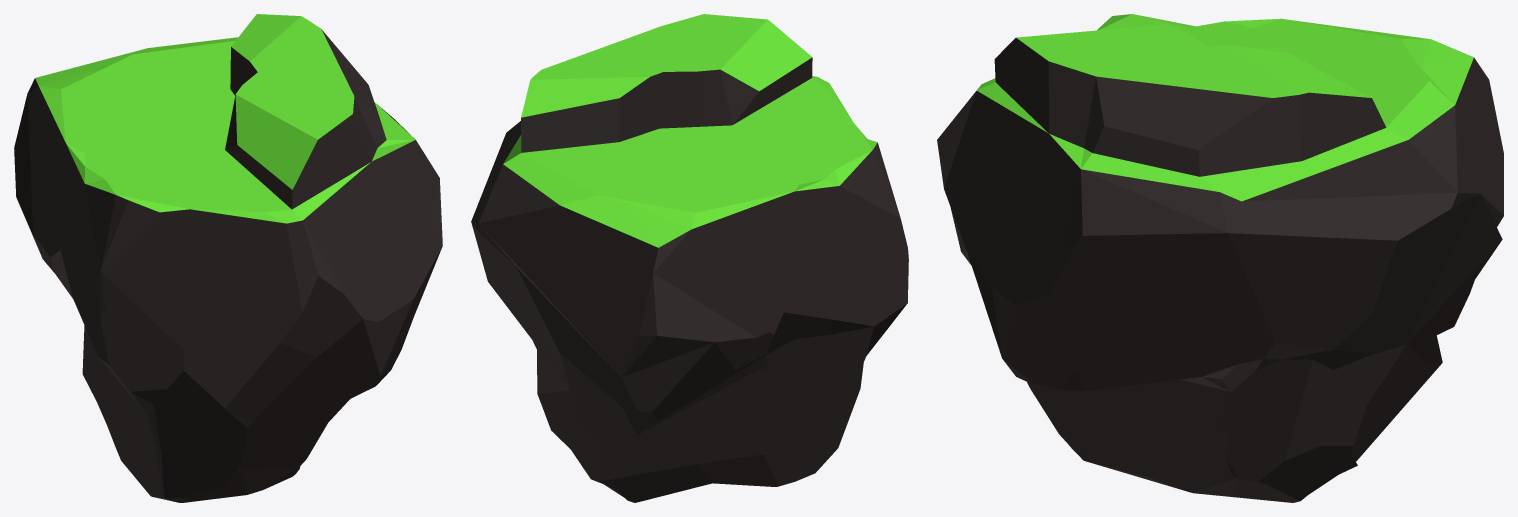
The model's file is floating_stone 4.fbx.
The picture shows the model from 3 angles, left to right: view 1: azimuth 30°, elevation 25°; view 2: azimuth 150°, elevation 25°; view 3: azimuth 270°, elevation 25°; orthographic projection. The views are drawn at different scales.
Parts seen in each view (by area): view 1: fs 4; view 2: fs 4; view 3: fs 4.
Boxes of the visible parts, box(x1,y1,x2,y2) form: fs 4: box(14, 14, 442, 502); fs 4: box(471, 14, 908, 502); fs 4: box(937, 14, 1503, 502).
Bounding box in the file's own units: 3109 × 3418 × 3777.
